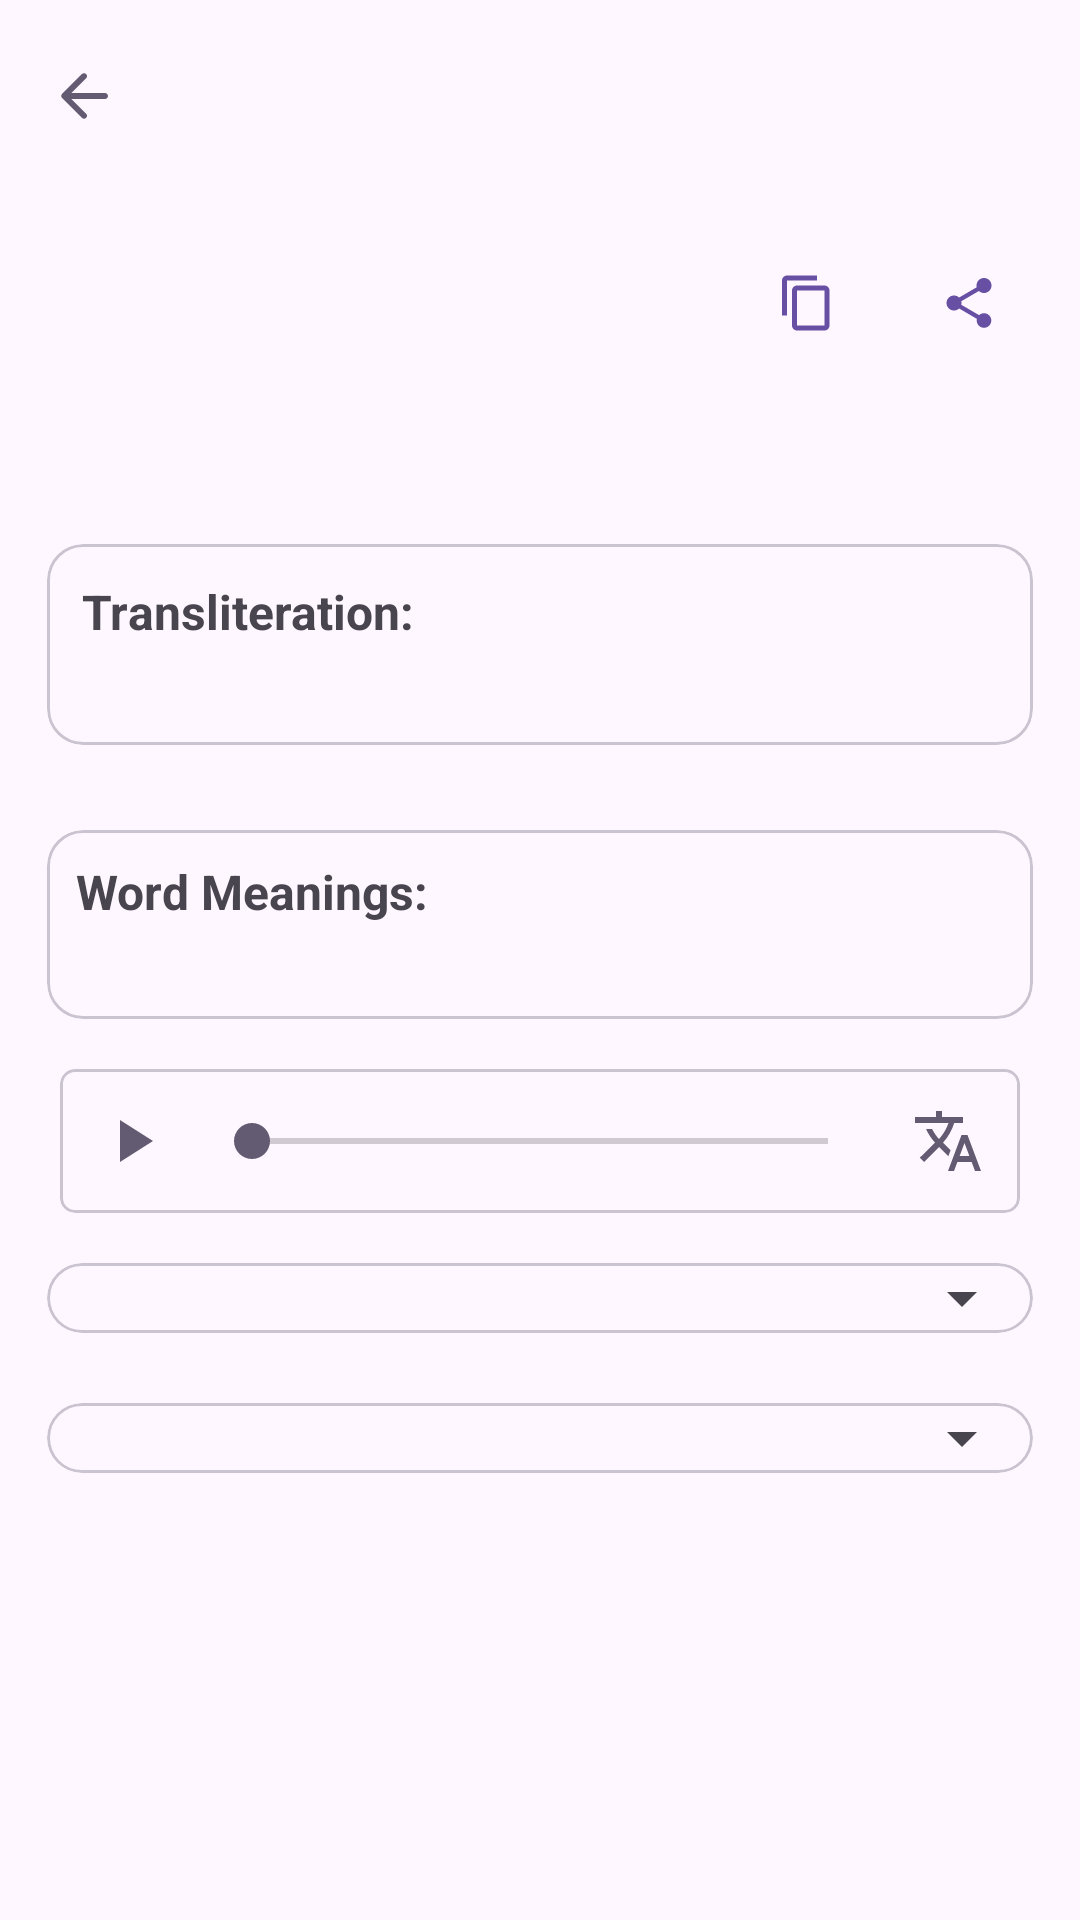

Where icons sit on this 1080 x 1920 app screen, as Rect(x1, y1, x2, y2):
PLAY: Rect(60, 1069, 204, 1213)
share: Rect(946, 278, 992, 328)
Translation: Rect(915, 1111, 981, 1171)
